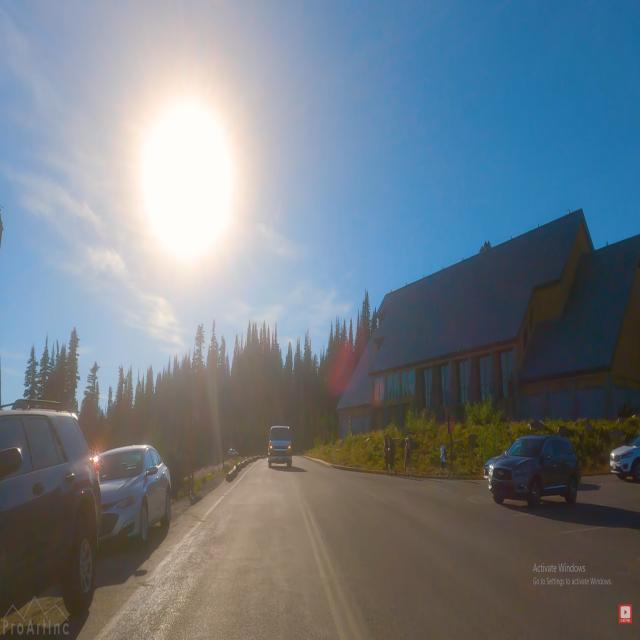sun: (114, 69, 264, 320)
